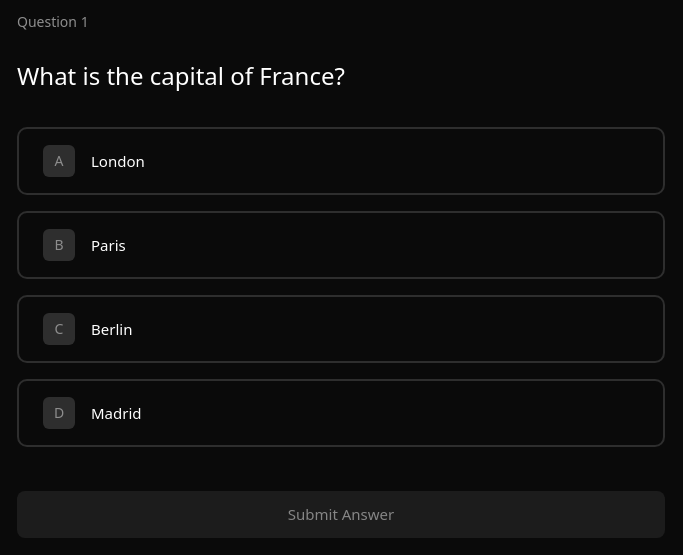
Test: StudentQuizQuestions › Submit Answer › should display submitting state while posting answer
Expected: the heading "What is the capital of France?" is shown, 17,59 -> 345,92
Select answer and submit
Click the button "B Paris". click: (59, 245)
box: 17,211 -> 665,279
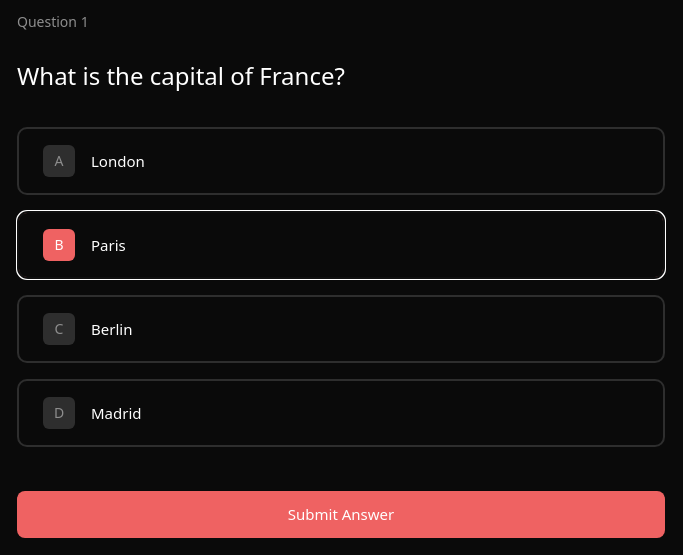
Click the button "Submit Answer". click: (341, 514)
box: 17,491 -> 665,538
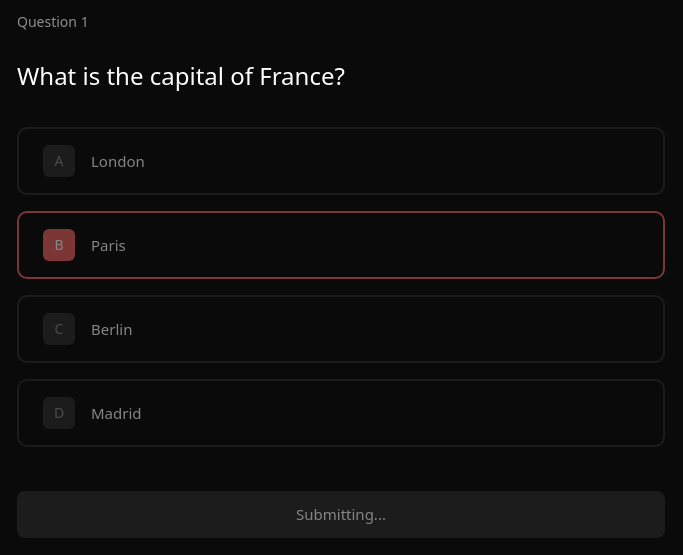
Now the button "Submitting..." is disabled, box 17,491 -> 665,538
